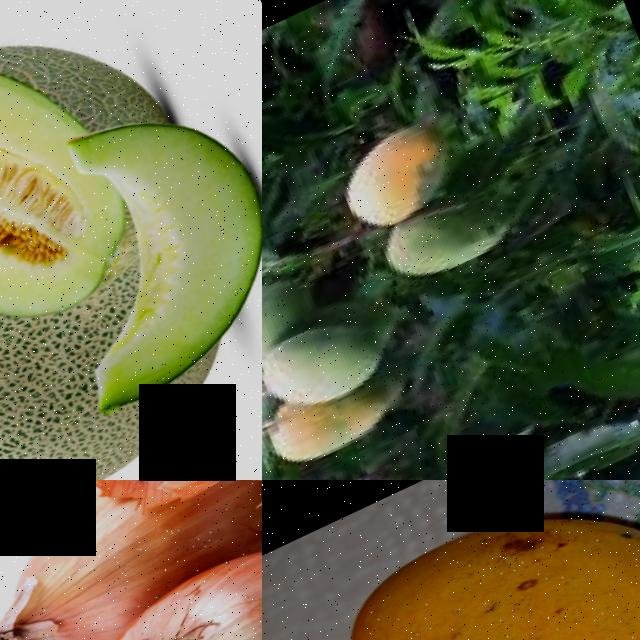mango: (355, 480, 640, 640), (326, 113, 475, 239), (378, 178, 525, 292), (262, 303, 400, 424), (269, 379, 411, 478), (262, 266, 332, 372)
melon: (0, 5, 159, 335), (57, 208, 262, 421), (0, 298, 160, 480)
onion: (0, 480, 262, 640), (46, 520, 262, 640)
